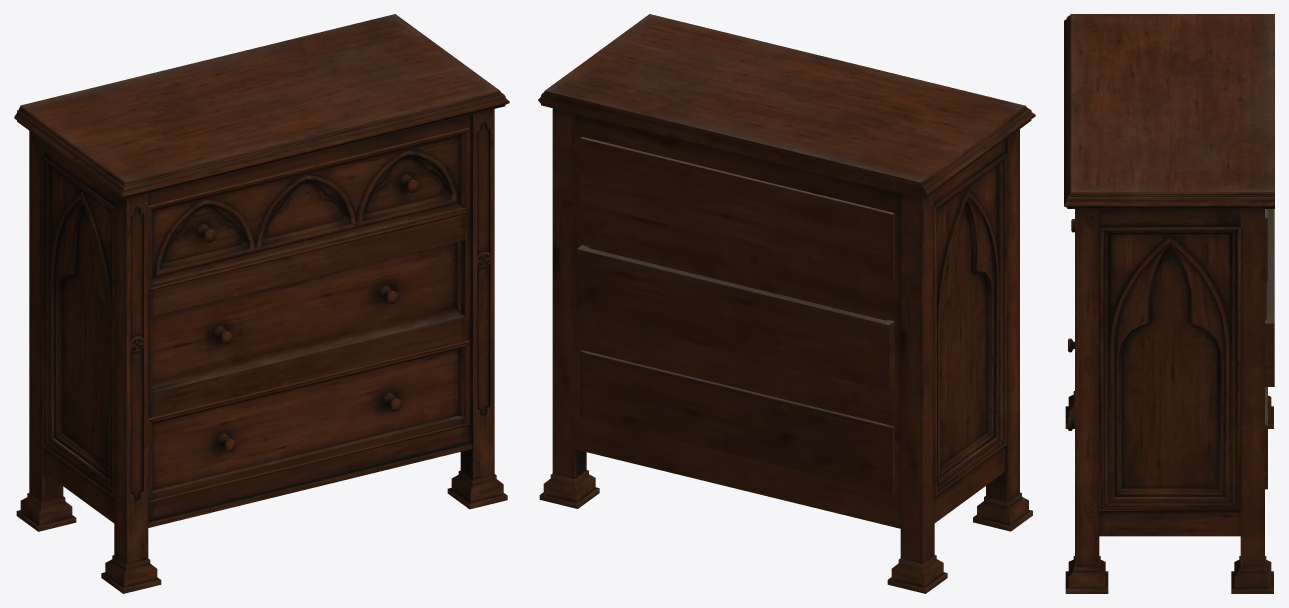
File: GothicCommode_01.glb
3 views of the same model, side by side, from view 1: azimuth 30°, elevation 25°; view 2: azimuth 150°, elevation 25°; view 3: azimuth 270°, elevation 25° (orthographic). The views are drawn at different scales.
Visible parts, largest first — view 1: GothicCommode_01; view 2: GothicCommode_01; view 3: GothicCommode_01.
Part boxes in pixels (bbox=[...]): GothicCommode_01: bbox=[14, 14, 509, 593]; GothicCommode_01: bbox=[538, 14, 1035, 593]; GothicCommode_01: bbox=[1064, 14, 1274, 593].
Bounding box in the file's own units: 1.2 × 1.21 × 0.5806.
1 material, 1 textured.
